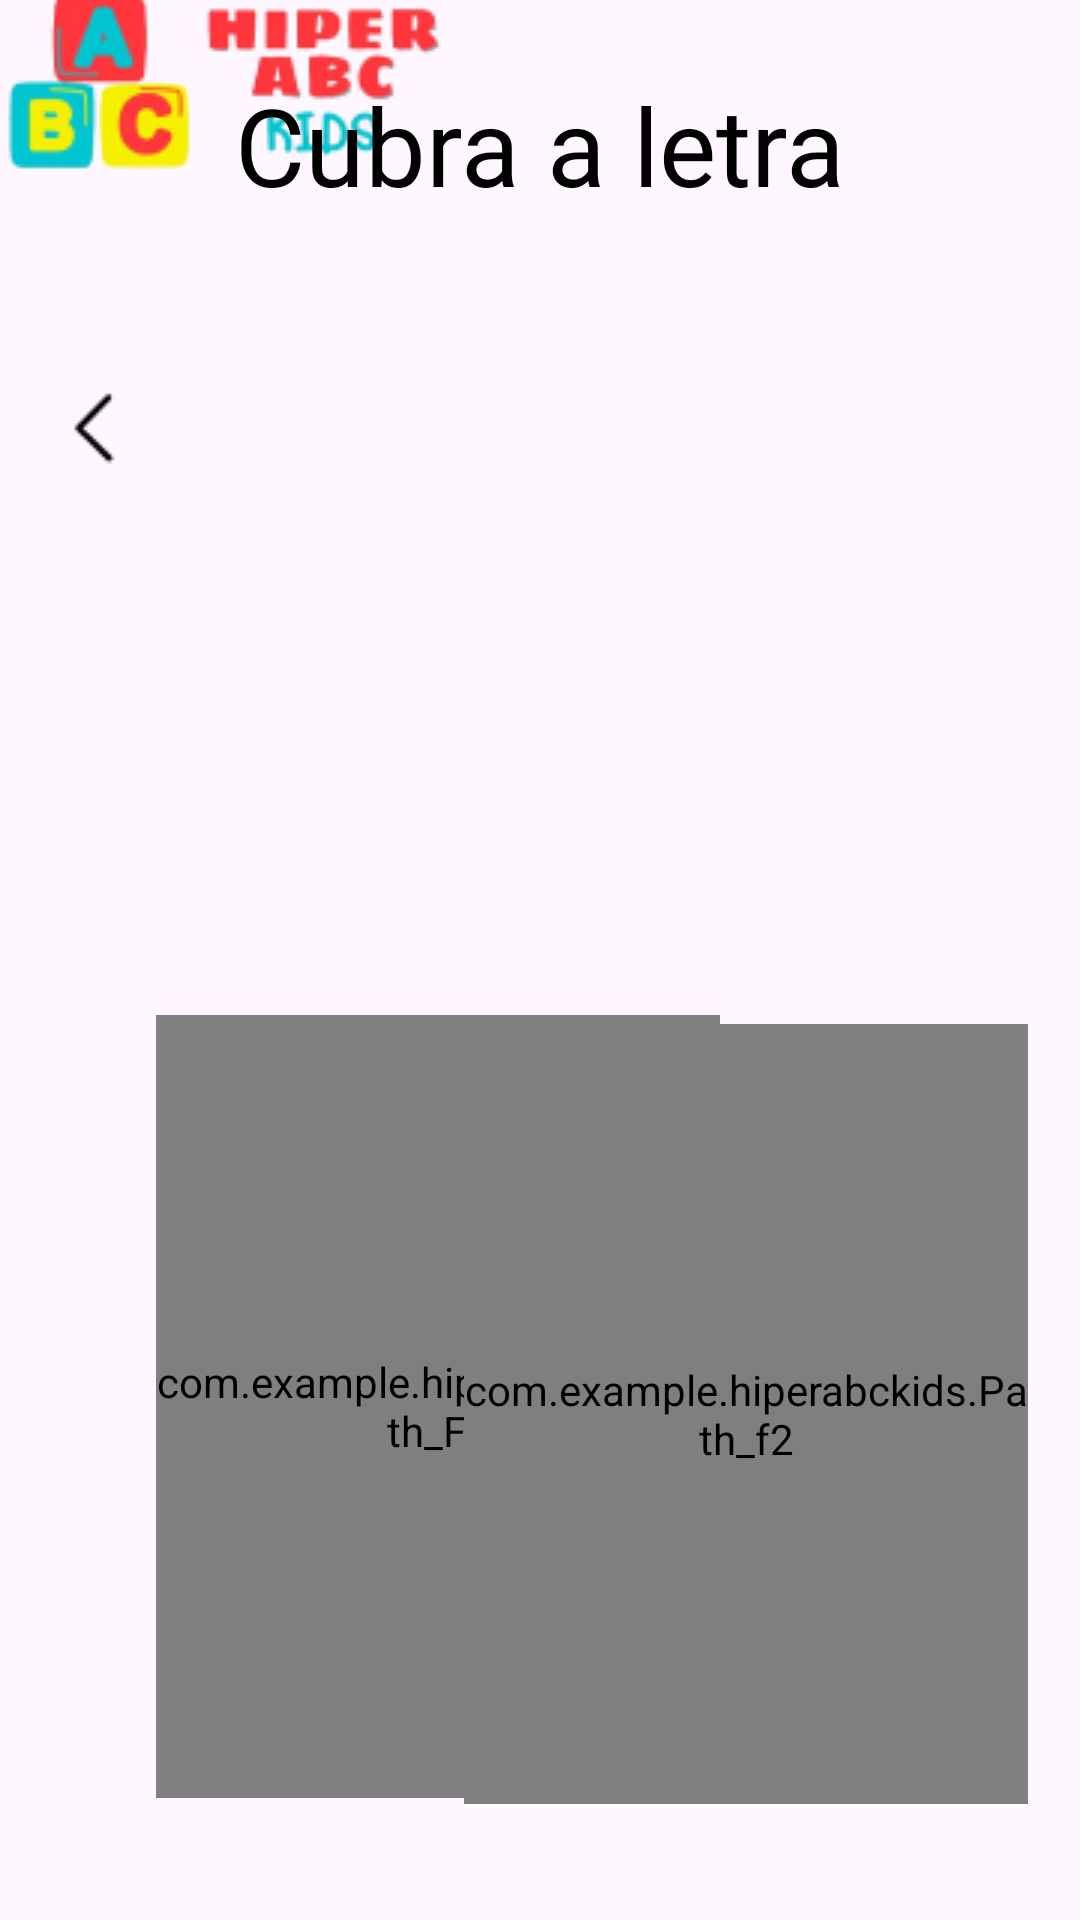

Icons on this 1080px x 1920px Android screen, each with the point to tap as [x,y]:
seta voltar: [94,428]
